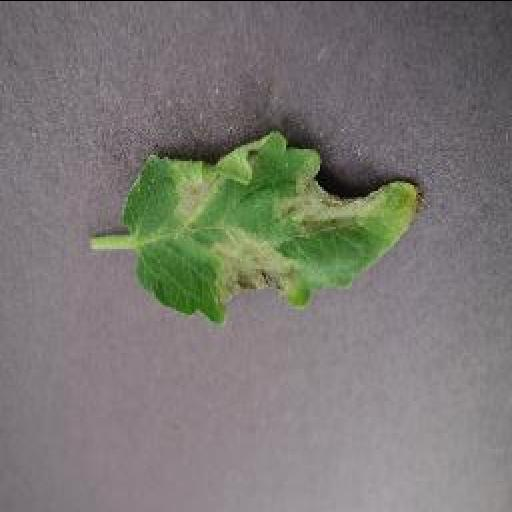disease_tomato: (122, 128, 428, 322)
